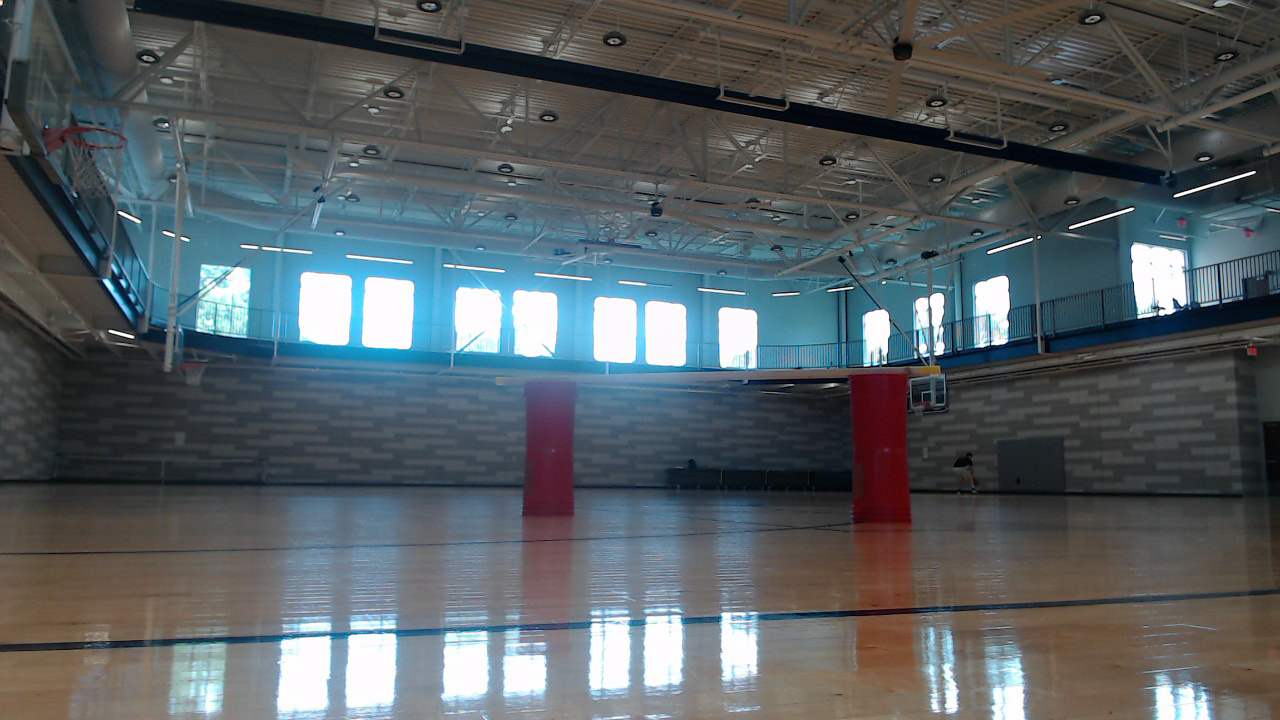red_bucket_arch: (522, 369, 927, 536)
